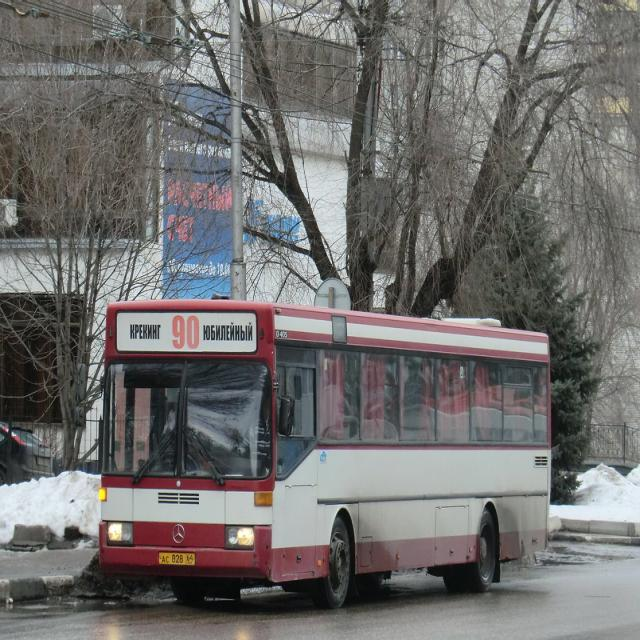number-of-bus: (170, 314, 203, 352)
